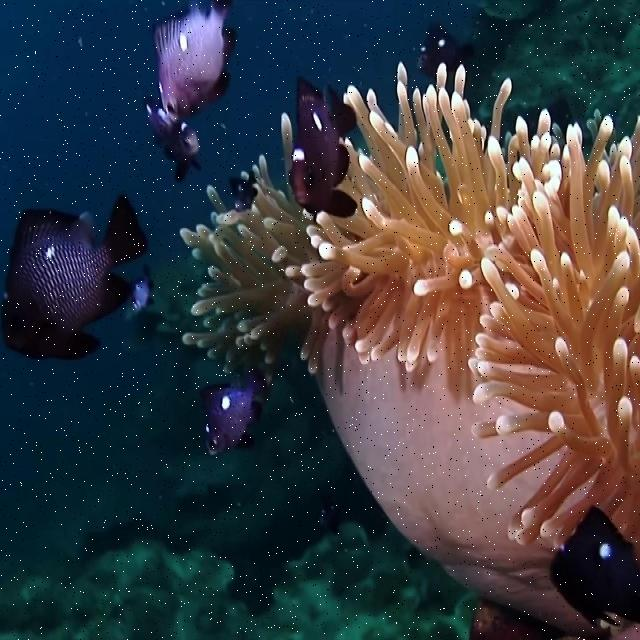fish: (0, 194, 155, 363), (288, 79, 372, 216), (550, 508, 639, 631), (151, 1, 236, 115), (144, 93, 201, 184), (202, 376, 265, 455), (231, 171, 261, 209)
reefs: (179, 64, 639, 551)
